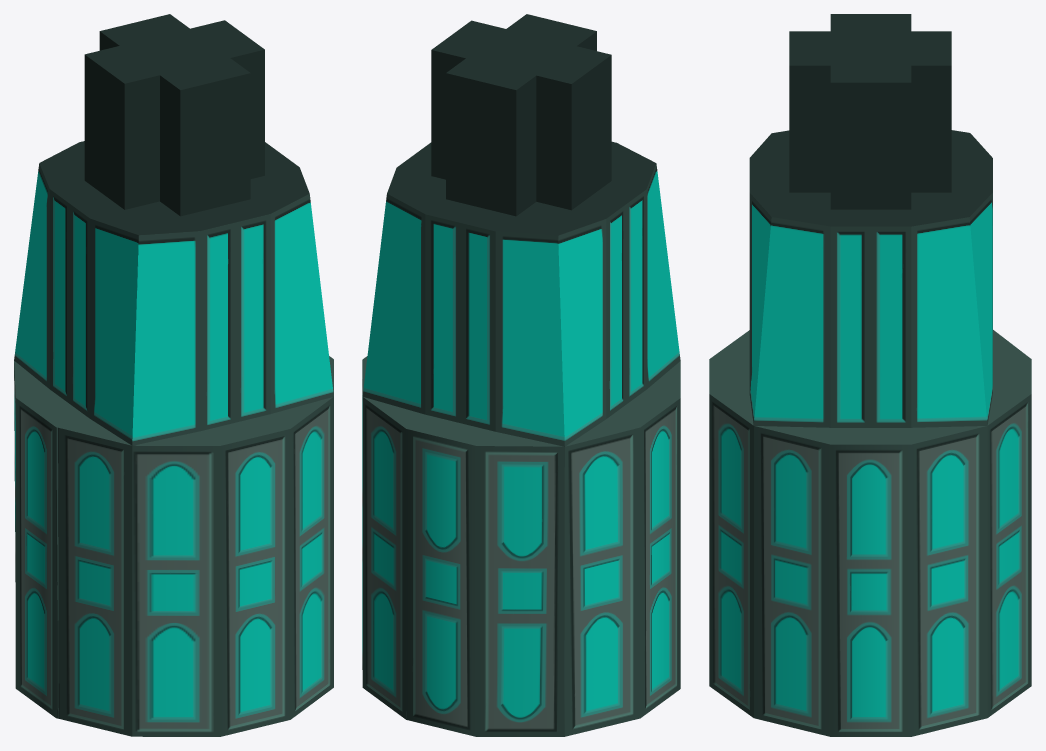
Rendered from building set 2_06.fbx.
The picture shows the model from 3 angles, left to right: view 1: azimuth 30°, elevation 25°; view 2: azimuth 150°, elevation 25°; view 3: azimuth 270°, elevation 25°; orthographic projection.
Visible parts, largest first — view 1: pCube7; view 2: pCube7; view 3: pCube7.
Part boxes in pixels (x1,y1,x2,y2): pCube7: [14, 14, 333, 736]; pCube7: [362, 14, 680, 736]; pCube7: [709, 14, 1031, 736].
Size of the model in its own units: 2.74 by 5.82 by 2.74.
